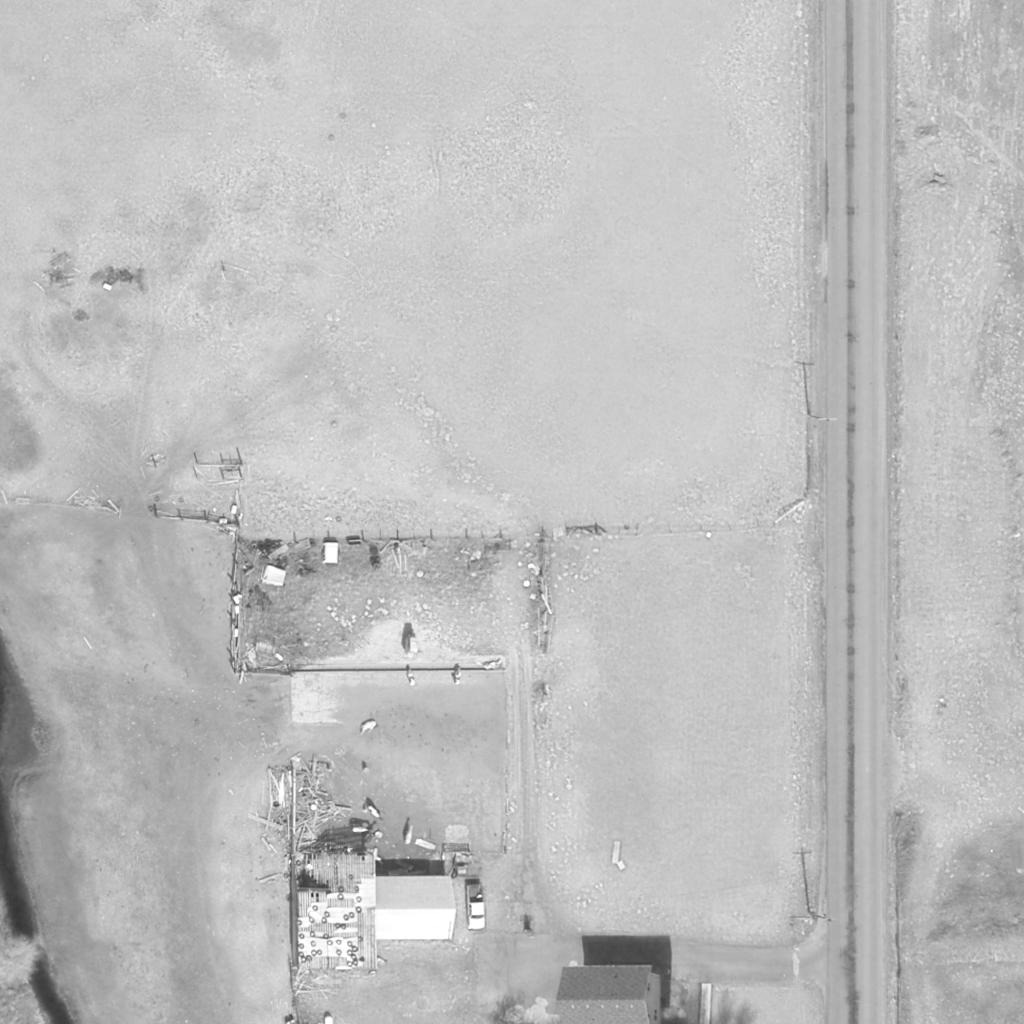vehicle: (464, 883, 488, 931)
